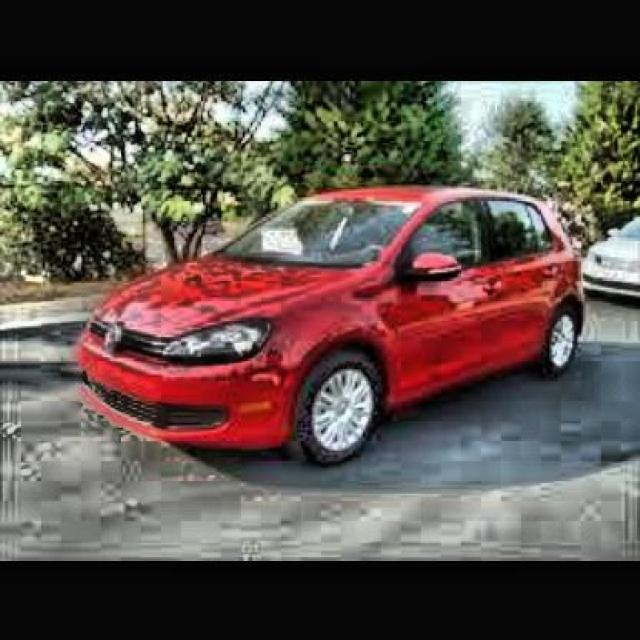red: (76, 185, 589, 434)
